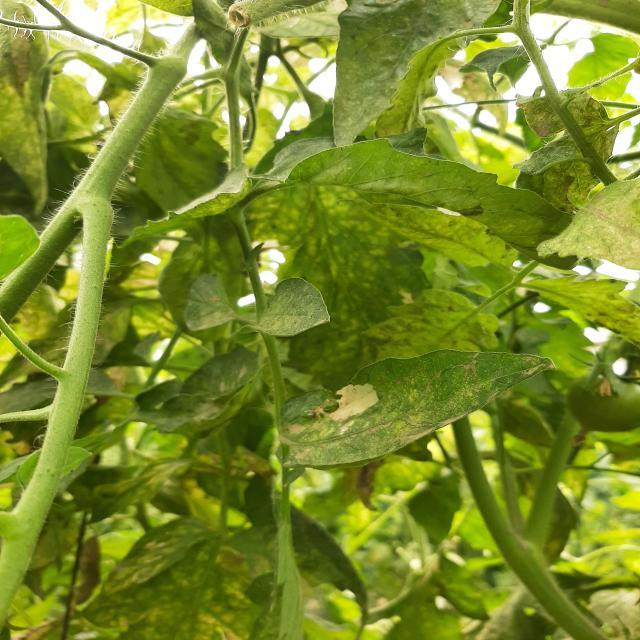Tuta absoluta: (322, 375, 381, 426)
